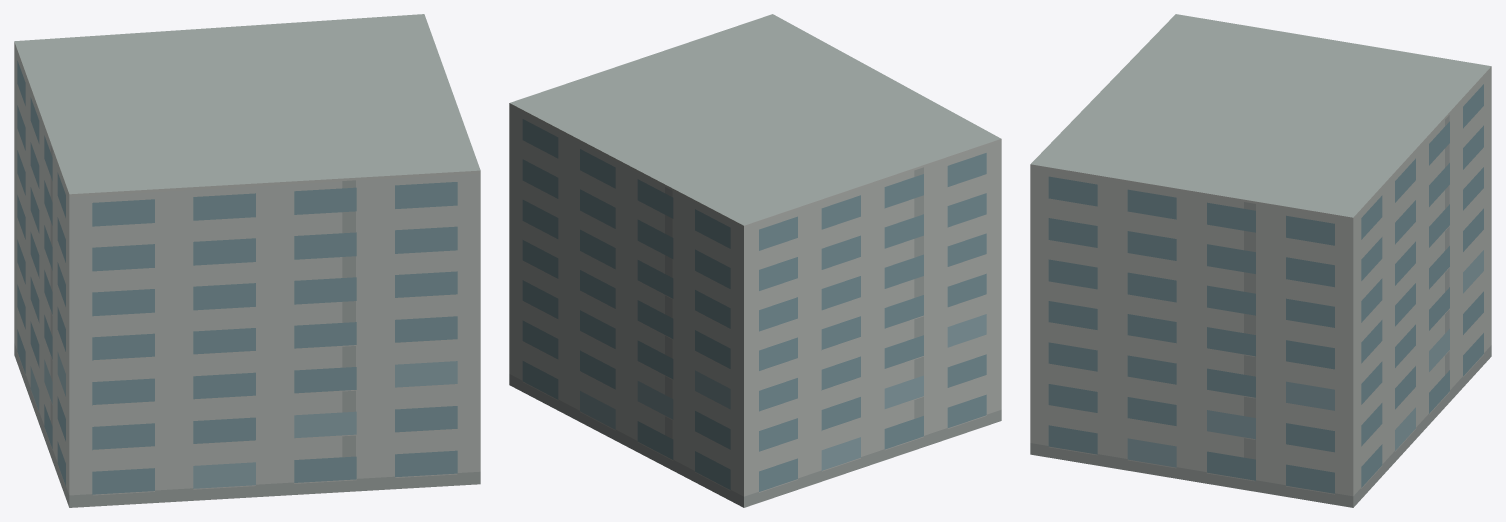
Rendered from survey-upis-32511363.glb.
3 views of the same model, side by side, from view 1: azimuth 30°, elevation 25°; view 2: azimuth 150°, elevation 25°; view 3: azimuth 270°, elevation 25° (orthographic). The views are drawn at different scales.
Parts seen in each view (by area): view 1: survey-upis-32511363.tmp; view 2: survey-upis-32511363.tmp; view 3: survey-upis-32511363.tmp.
Part boxes in pixels (x1,y1,x2,y2): survey-upis-32511363.tmp: [14, 14, 480, 507]; survey-upis-32511363.tmp: [509, 14, 1001, 507]; survey-upis-32511363.tmp: [1030, 14, 1491, 507].
Bounding box in the file's own units: 45.9 × 30.5 × 43.93.
